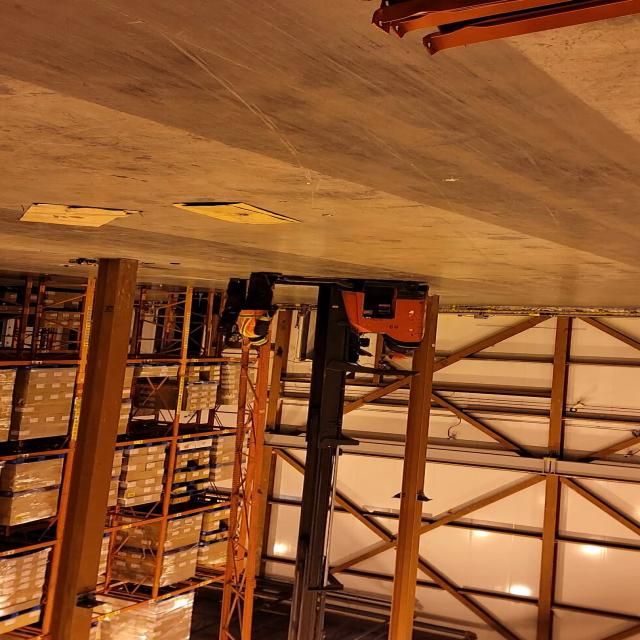forklift: (268, 272, 434, 448)
human: (235, 268, 286, 348), (214, 275, 247, 350), (380, 329, 422, 366)
objectofinterest: (209, 277, 280, 640), (167, 199, 305, 229), (18, 200, 144, 231)
